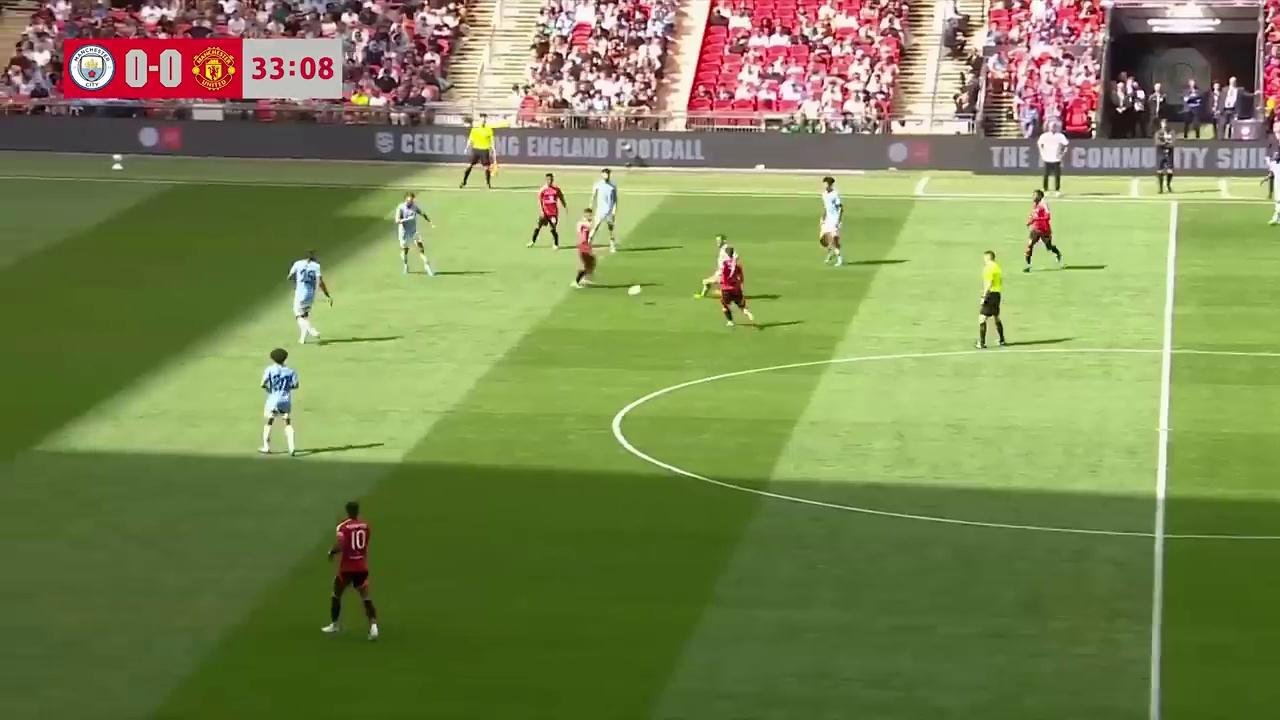ball: (628, 284, 644, 296)
player: (323, 500, 380, 640), (259, 346, 300, 457), (288, 249, 328, 346), (715, 241, 758, 329), (696, 235, 740, 318), (1022, 191, 1062, 273), (526, 174, 566, 250), (395, 200, 434, 276), (590, 170, 618, 252), (818, 178, 844, 266), (572, 213, 602, 288), (1264, 162, 1280, 227)
referee: (458, 110, 500, 190), (975, 249, 1006, 350)
